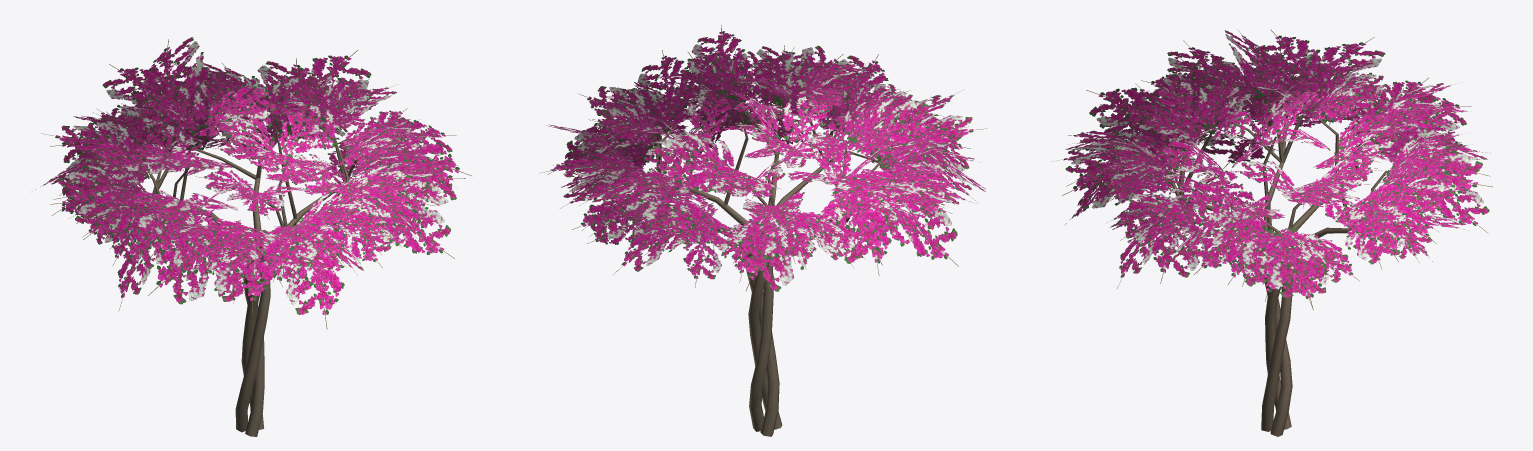
File: bugambilia.obj
3 views of the same model, side by side, from view 1: azimuth 30°, elevation 25°; view 2: azimuth 150°, elevation 25°; view 3: azimuth 270°, elevation 25° (orthographic). The views are drawn at different scales.
Parts seen in each view (by area): view 1: bugambilia; view 2: bugambilia; view 3: bugambilia.
Boxes of the visible parts, bbox=[...] form: bugambilia: bbox=[35, 37, 471, 436]; bugambilia: bbox=[539, 25, 986, 436]; bugambilia: bbox=[1052, 30, 1492, 436].
Size of the model in its own units: 4.76 by 3.75 by 4.65.
